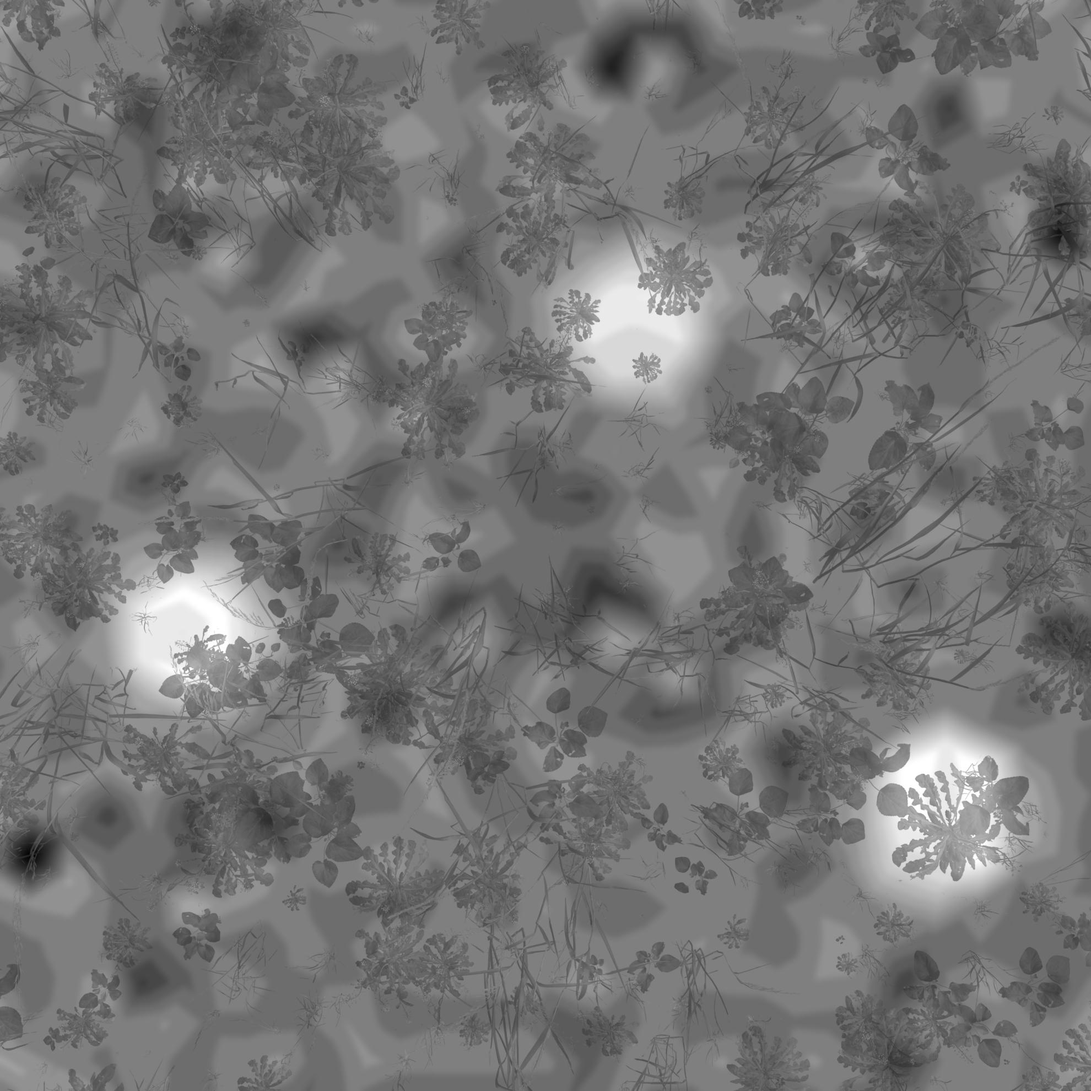landmine: (118, 543, 284, 718), (868, 729, 1031, 885), (560, 253, 696, 386)
